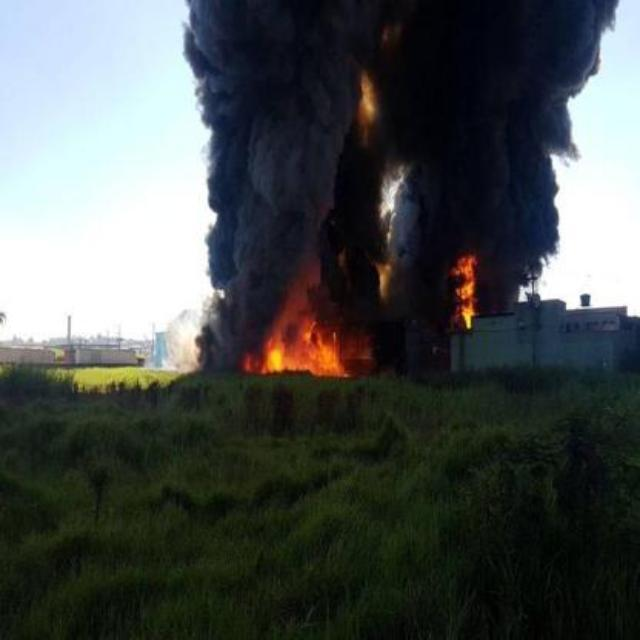Fire: (243, 305, 351, 377), (455, 253, 477, 329)
Smoke: (182, 2, 454, 304), (460, 1, 610, 255), (354, 309, 448, 366), (482, 259, 538, 311), (198, 308, 242, 372)
